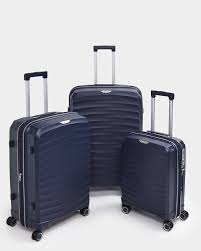suitcase: (4, 70, 91, 241), (67, 44, 143, 193), (118, 89, 190, 232)
